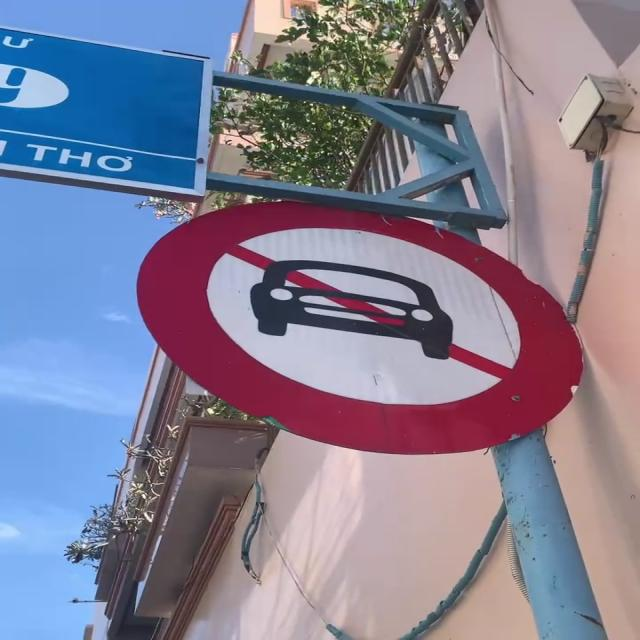Cam_O_To: (138, 196, 586, 460)
